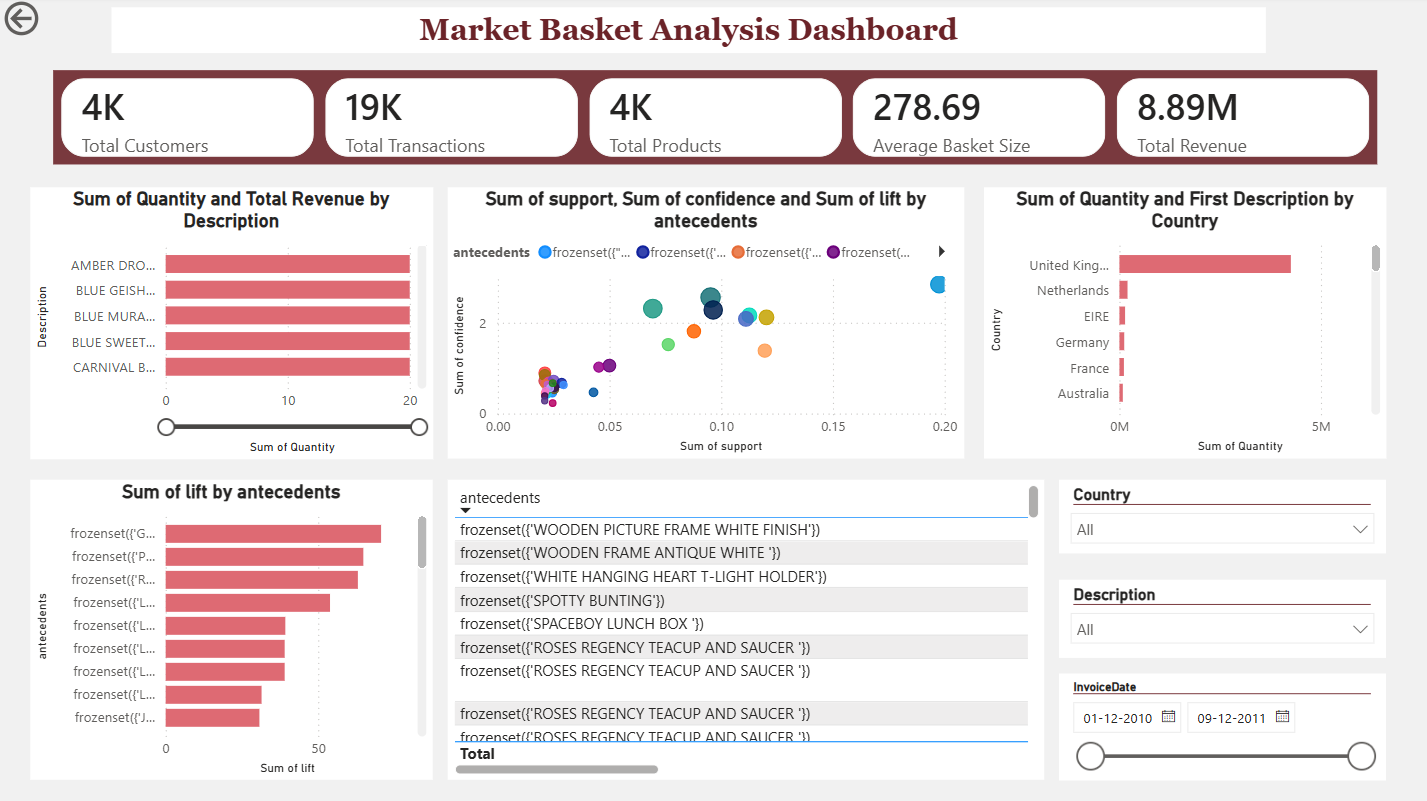

The dashboard page shown, as its layout file describes it:
{"tool":"powerbi","page":{"name":"Dashboard","canvas":[1280,720],"ordinal":0},"visuals":[{"type":"cardVisual","fields":{"Data":["association_rules.Total Customers","association_rules.Total Transactions","association_rules.Total Products","association_rules.Average Basket Size","association_rules.Total Revenue"]},"box":[43.9,61.7,1191.1,94.7],"z":0},{"type":"clusteredBarChart","fields":{"Y":["Sum(cleaned_data.Quantity)"],"Category":["cleaned_data.Description"]},"box":[27.4,170.2,358.1,241.5],"z":1000},{"type":"barChart","fields":{"Category":["cleaned_data.Country"],"Y":["Sum(cleaned_data.Quantity)"]},"box":[876.8,170.2,358.1,241.5],"z":2000},{"type":"scatterChart","fields":{"Y":["Sum(association_rules.confidence)"],"X":["Sum(association_rules.support)"],"Size":["Sum(association_rules.lift)"],"Series":["association_rules.antecedents"]},"box":[399.3,170.2,459.7,241.5],"z":3000},{"type":"clusteredBarChart","fields":{"Category":["association_rules.antecedents"],"Y":["Sum(association_rules.lift)"]},"box":[27.4,430.9,358.1,267.6],"z":4000},{"type":"tableEx","fields":{"Values":["association_rules.antecedents","association_rules.consequents","Sum(association_rules.lift)","Sum(association_rules.support)","Sum(association_rules.confidence)","Sum(association_rules.conviction)"]},"box":[399.3,430.9,531,267.6],"z":5000},{"type":"actionButton","box":[0,0,100,40],"z":6000},{"type":"slicer","fields":{"Values":["cleaned_data.Country"]},"box":[944.1,430.9,290.9,65.9],"z":7000},{"type":"slicer","fields":{"Values":["cleaned_data.Description"]},"box":[944.1,520.1,290.9,70],"z":8000},{"type":"slicer","fields":{"Values":["cleaned_data.InvoiceDate"]},"box":[944.1,603.8,290.9,94.7],"z":9000},{"type":"textbox","box":[100.2,9.6,1027.8,41.2],"z":10000}]}

Visuals, with their boxes in screenshot pixels (x1, y1, x2, y2), scaled from the page's 1280x720 canvas onto the 1427x801 screenshot:
cardVisual - association_rules.Total Customers x association_rules.Total Transactions: 49, 69, 1377, 174
clusteredBarChart - Sum(cleaned_data.Quantity) x cleaned_data.Description: 31, 189, 430, 458
barChart - cleaned_data.Country x Sum(cleaned_data.Quantity): 977, 189, 1377, 458
scatterChart - Sum(association_rules.confidence) x Sum(association_rules.support): 445, 189, 958, 458
clusteredBarChart - association_rules.antecedents x Sum(association_rules.lift): 31, 479, 430, 777
tableEx - association_rules.antecedents x association_rules.consequents: 445, 479, 1037, 777
actionButton: 0, 0, 111, 44
slicer - cleaned_data.Country: 1053, 479, 1377, 553
slicer - cleaned_data.Description: 1053, 579, 1377, 656
slicer - cleaned_data.InvoiceDate: 1053, 672, 1377, 777
textbox: 112, 11, 1258, 57
